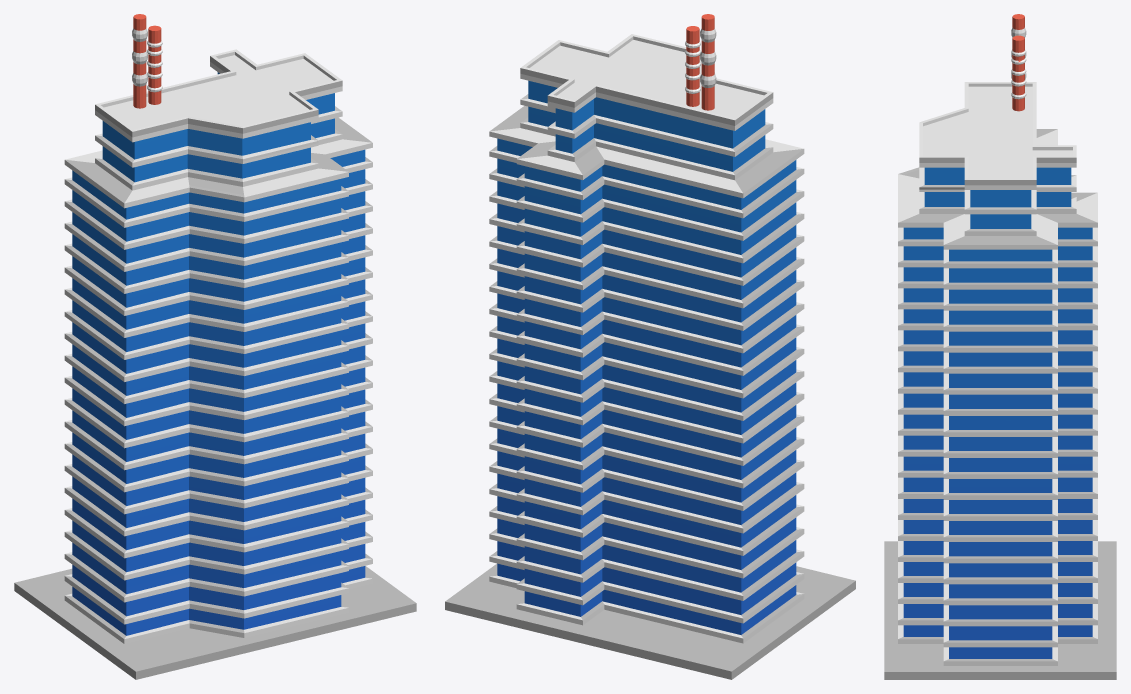
Rendered from Build2.fbx.
3 views of the same model, side by side, from view 1: azimuth 30°, elevation 25°; view 2: azimuth 150°, elevation 25°; view 3: azimuth 270°, elevation 25° (orthographic). The views are drawn at different scales.
Visible parts, largest first — view 1: Building_Skyscraper_A; view 2: Building_Skyscraper_A; view 3: Building_Skyscraper_A.
Boxes of the visible parts, x1=… form: Building_Skyscraper_A: x1=14, y1=14, x2=416, y2=679; Building_Skyscraper_A: x1=445, y1=14, x2=855, y2=679; Building_Skyscraper_A: x1=884, y1=14, x2=1116, y2=679.
Size of the model in its own units: 1260 by 2546 by 945.
